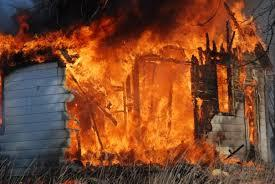fire: (69, 34, 195, 157), (205, 5, 248, 48), (3, 34, 68, 53)
